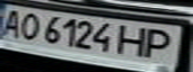1: (57, 16, 78, 48)
2: (72, 18, 96, 52)
4: (90, 20, 118, 55)
6: (39, 14, 63, 45)
A: (0, 7, 27, 39)
H: (115, 24, 154, 60)
O: (15, 10, 45, 42)
P: (139, 26, 184, 60)
